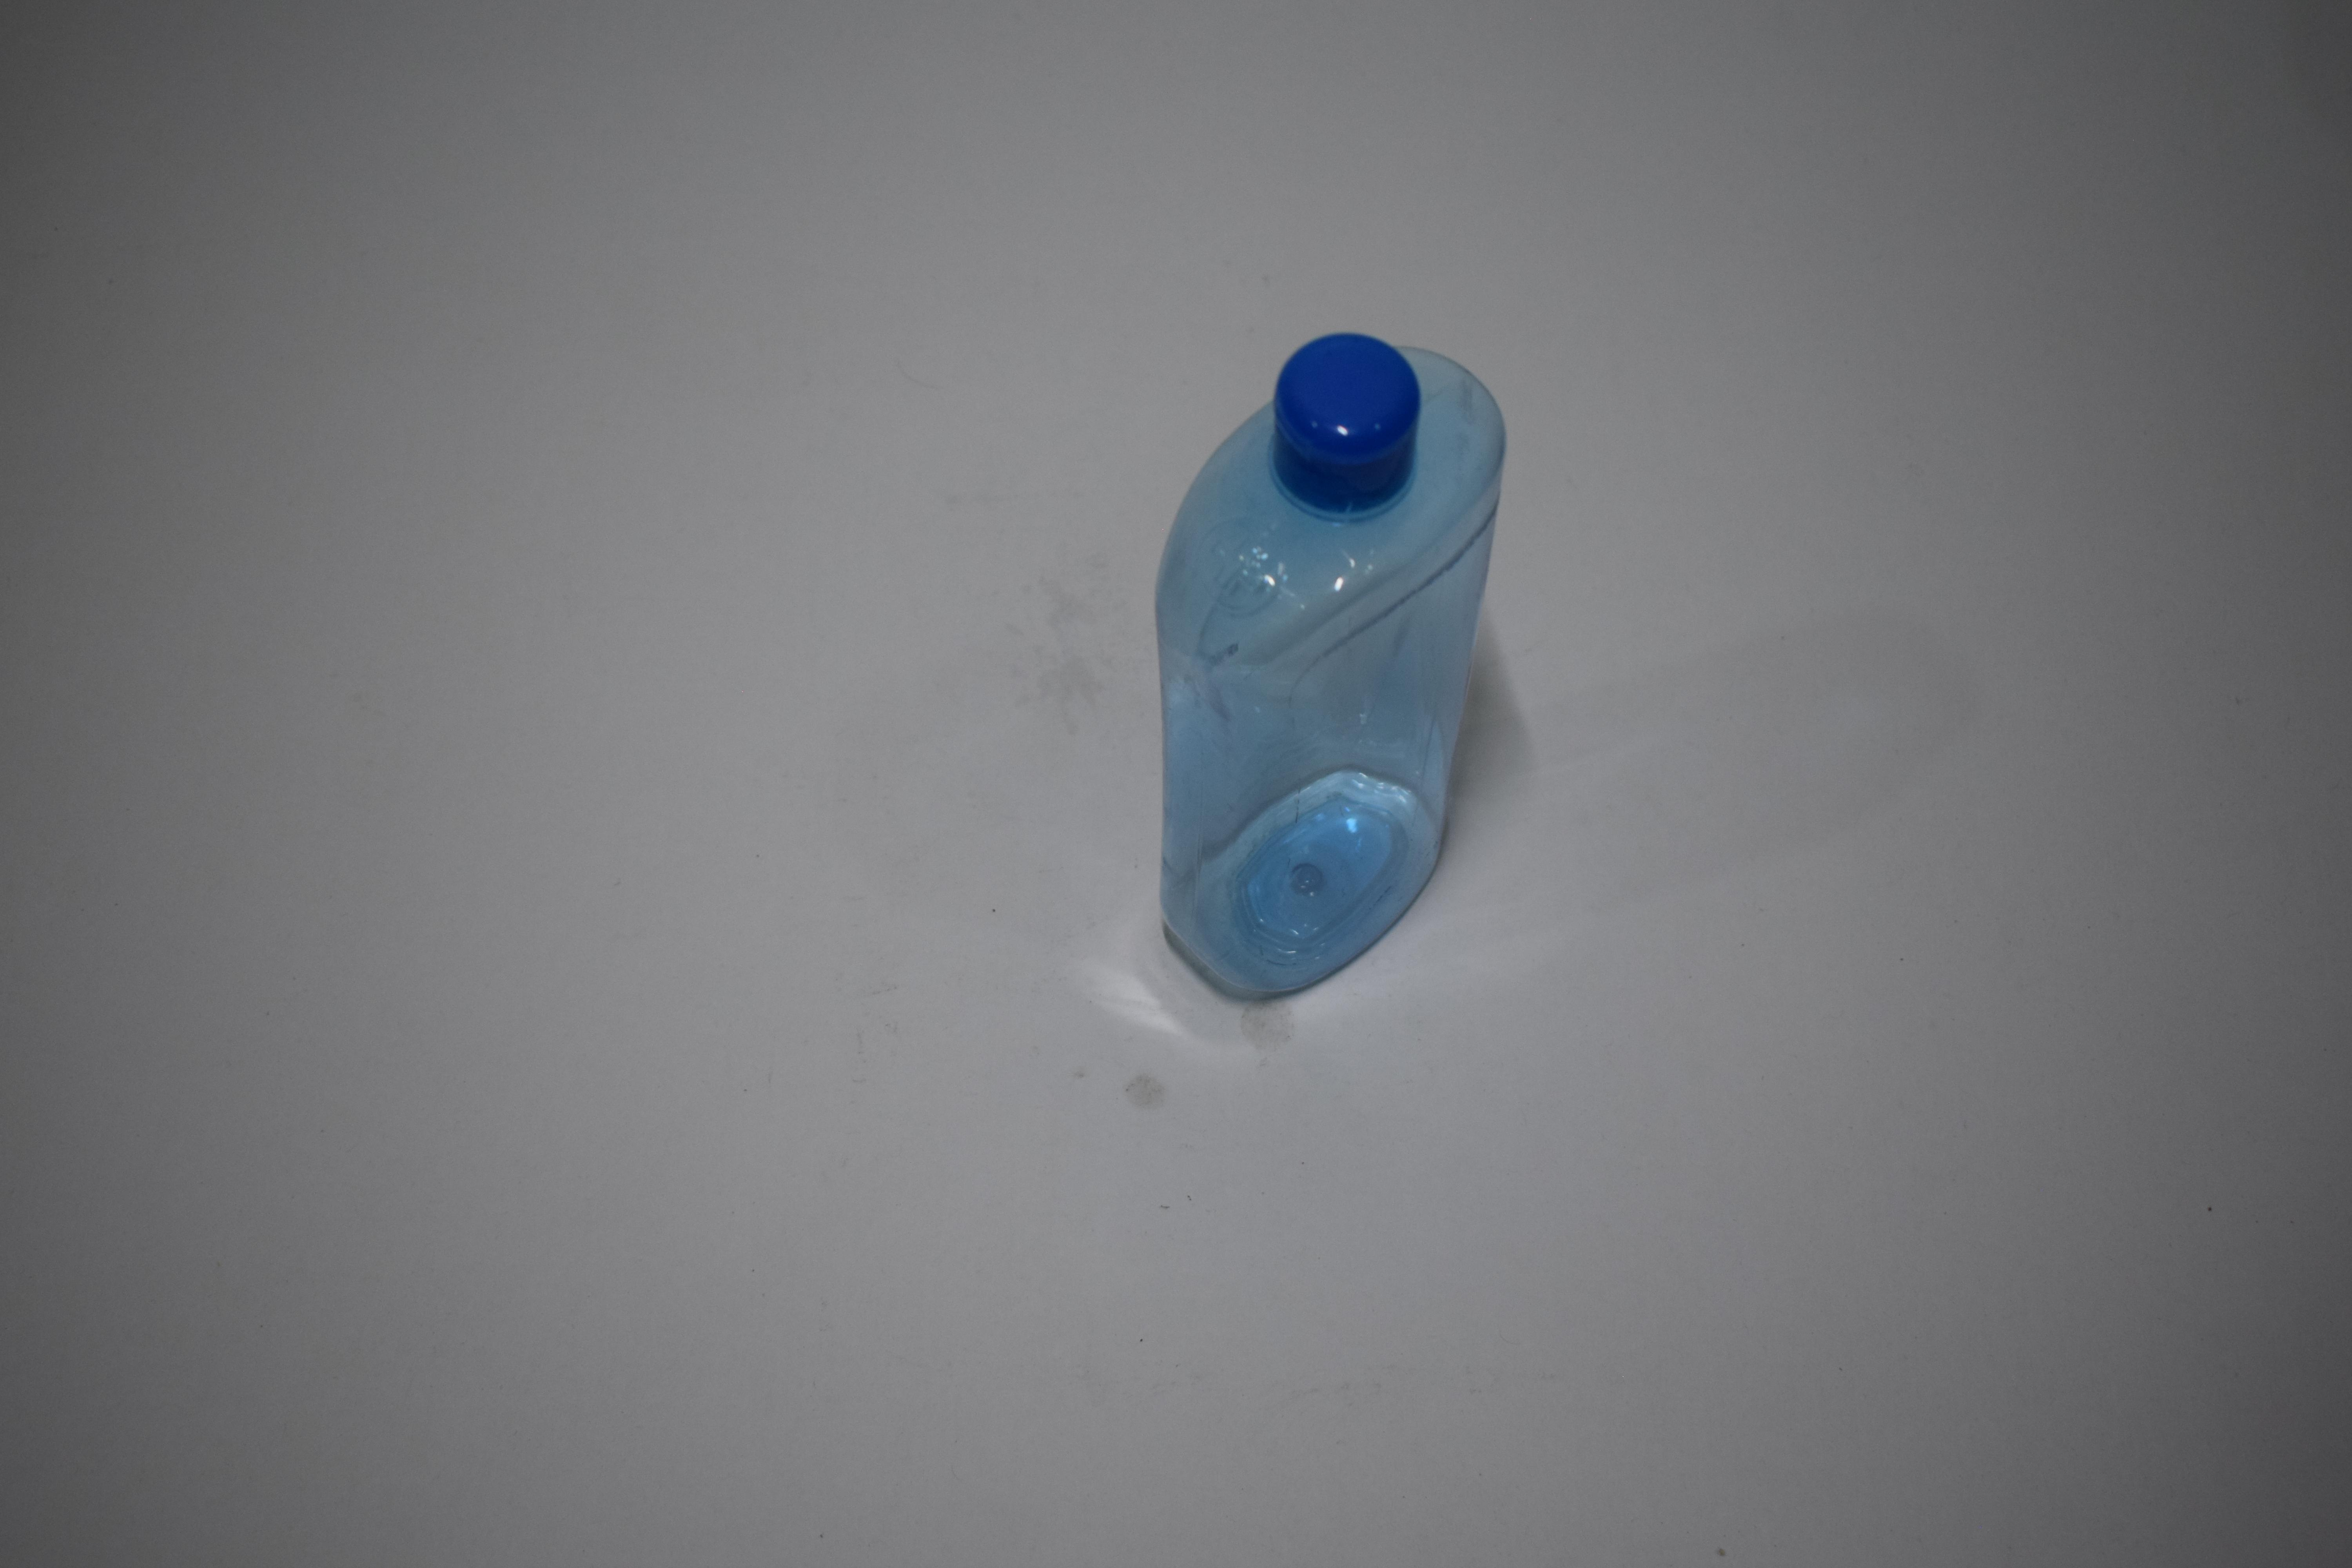bottle: (16, 313, 266, 1003)
